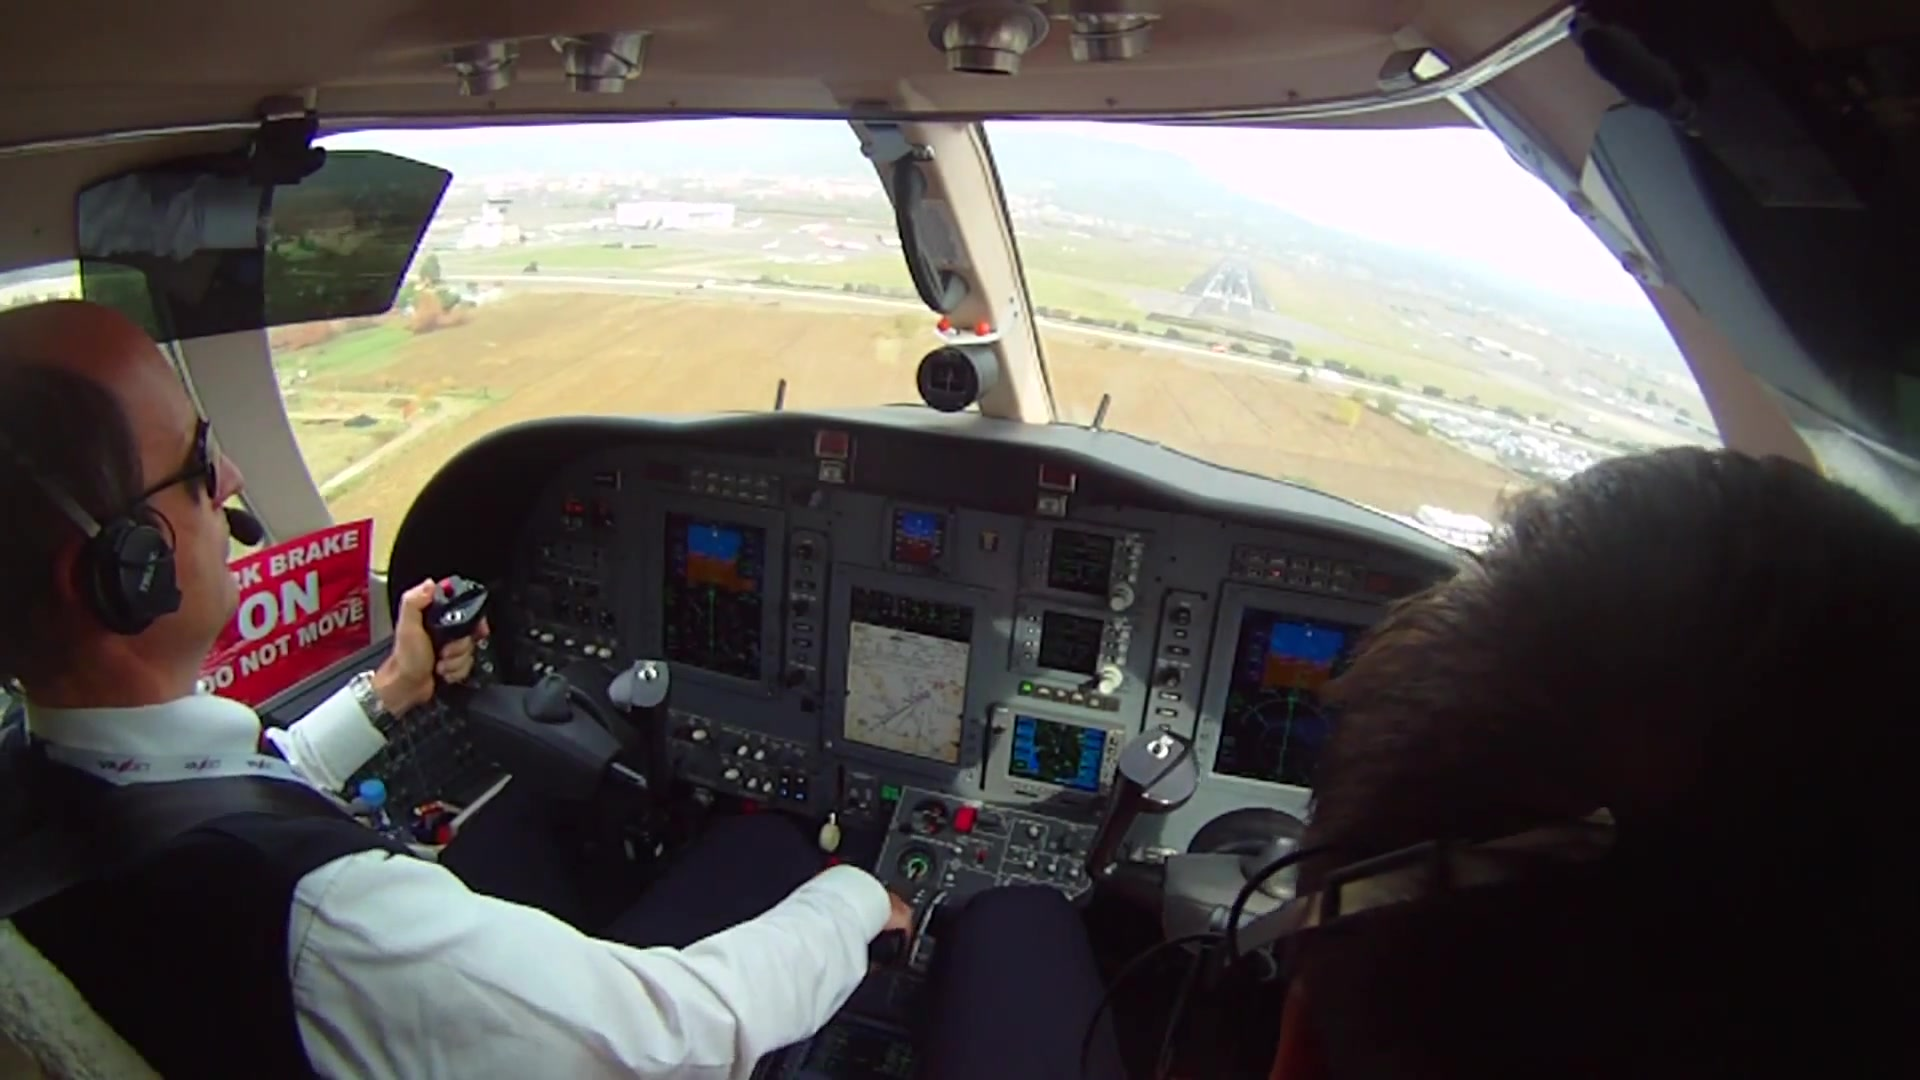entrance: (1207, 290, 1251, 305)
runway: (1205, 255, 1253, 305)
